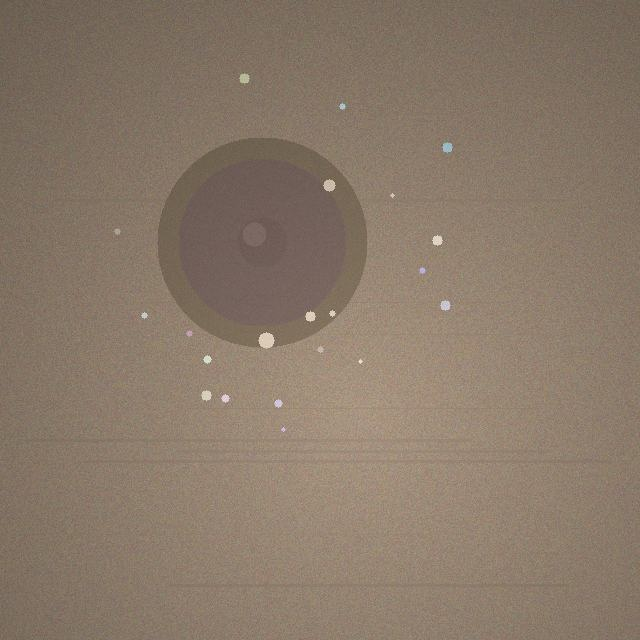overburn: (157, 137, 367, 347)
